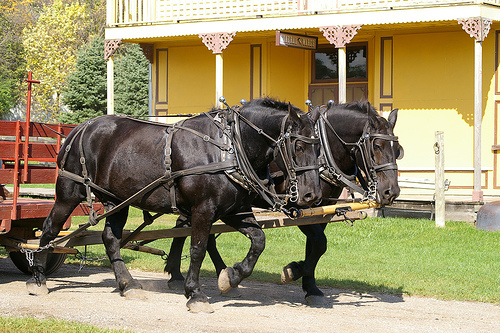horse: (24, 98, 328, 317), (154, 96, 402, 307)
